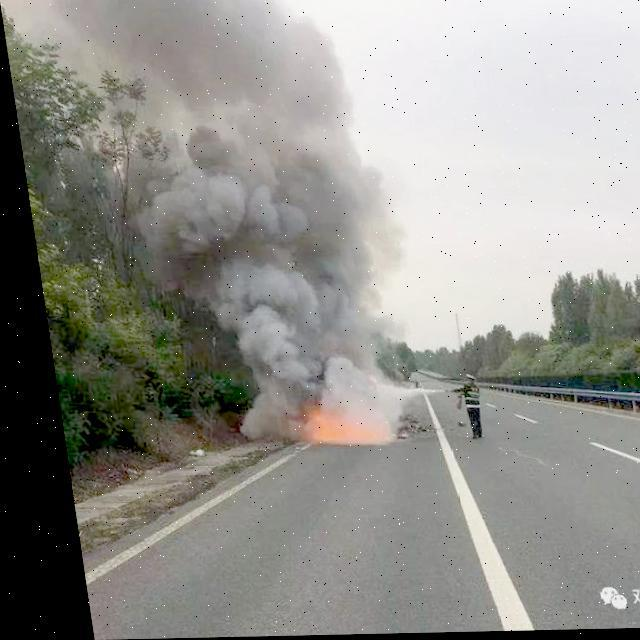Fire: (292, 397, 402, 452)
